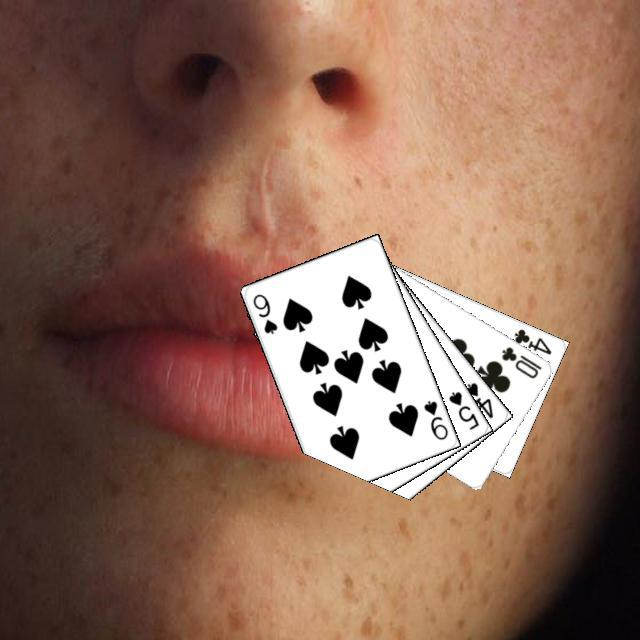10c: (496, 342, 543, 380)
4c: (509, 324, 553, 356)
4s: (460, 377, 495, 420)
5s: (444, 387, 481, 432)
9s: (419, 395, 450, 442), (248, 289, 279, 336)
